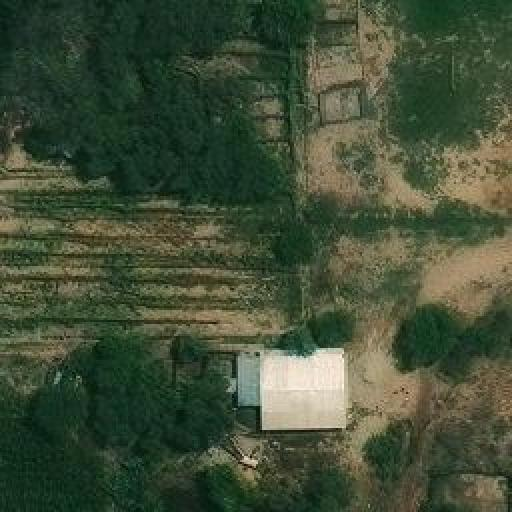manzanas: (219, 347, 347, 437)
